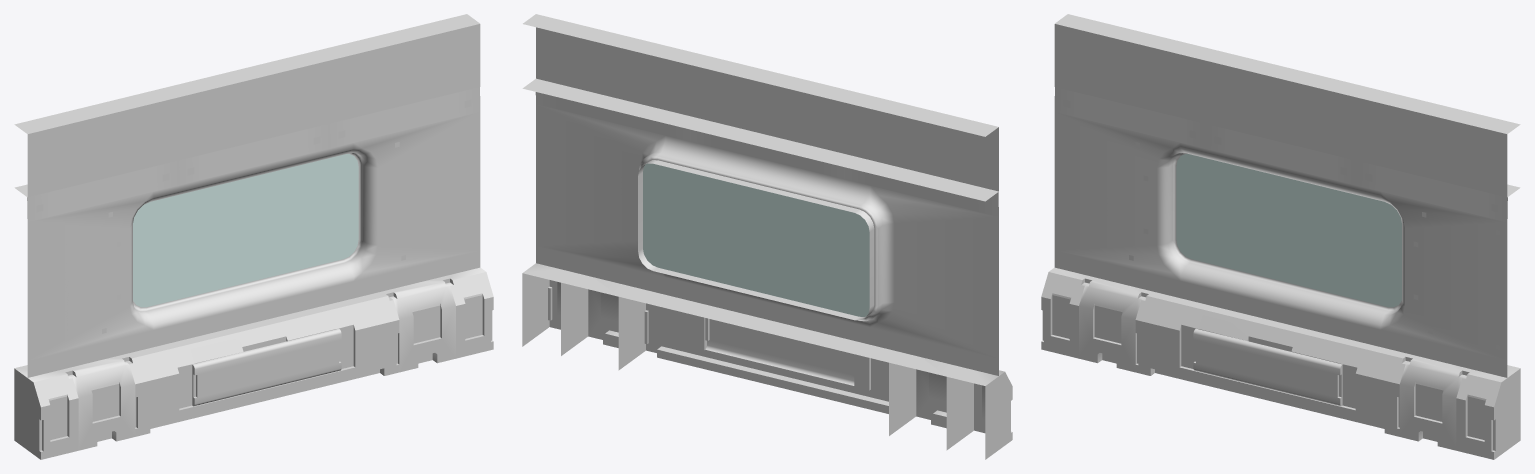
Rendered from SM_Window_AB.fbx.
3 renders of one model, left to right at view 1: azimuth 30°, elevation 25°; view 2: azimuth 150°, elevation 25°; view 3: azimuth 330°, elevation 25°, orthographic. The views are drawn at different scales.
Parts seen in each view (by area): view 1: SM_Window_AB; view 2: SM_Window_AB; view 3: SM_Window_AB.
Part boxes in pixels (x1=…): SM_Window_AB: x1=14, y1=14, x2=493, y2=459; SM_Window_AB: x1=522, y1=14, x2=1012, y2=459; SM_Window_AB: x1=1041, y1=14, x2=1520, y2=459.
Bounding box in the file's own units: 300 × 31.59 × 200.
